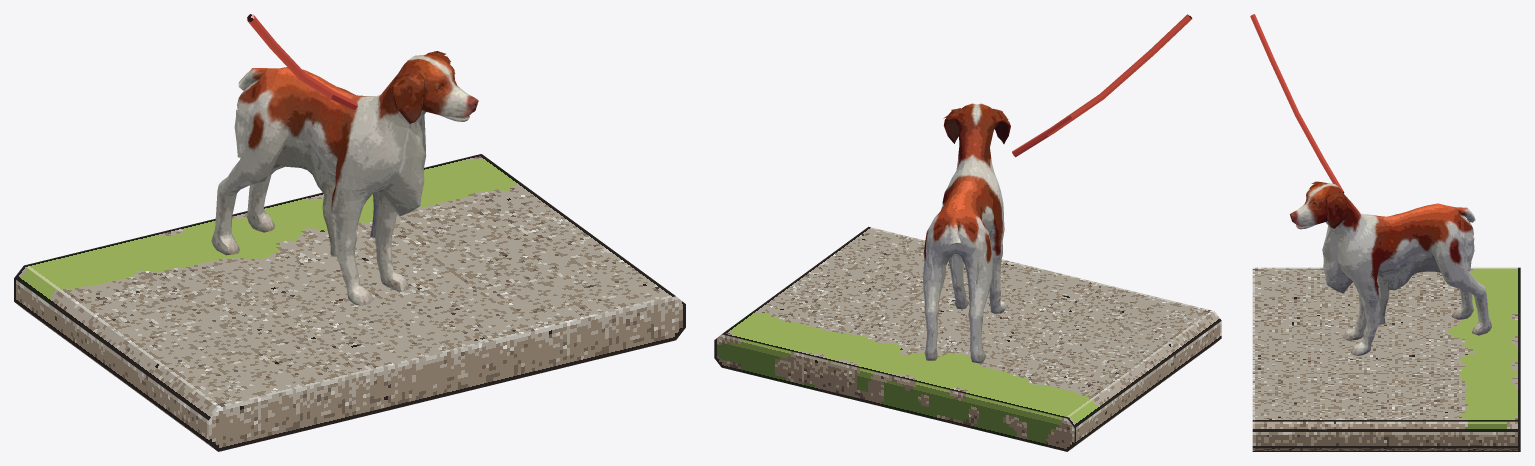
Rendered from sitshiba.glb.
3 views of the same model, side by side, from view 1: azimuth 30°, elevation 25°; view 2: azimuth 150°, elevation 25°; view 3: azimuth 270°, elevation 25° (orthographic). The views are drawn at different scales.
Visible parts, largest first — view 1: base, model_dog, leash; view 2: base, model_dog, leash; view 3: base, model_dog, leash.
Part boxes in pixels (x1=…): base: x1=14, y1=154, x2=685, y2=451; model_dog: x1=211, y1=51, x2=478, y2=305; leash: x1=247, y1=14, x2=357, y2=109; base: x1=714, y1=226, x2=1221, y2=451; model_dog: x1=923, y1=103, x2=1010, y2=363; leash: x1=1012, y1=14, x2=1192, y2=157; base: x1=1252, y1=267, x2=1520, y2=451; model_dog: x1=1290, y1=181, x2=1491, y2=355; leash: x1=1250, y1=14, x2=1344, y2=192.
Size of the model in its own units: 34 by 29.18 by 24.21.
2 materials, 2 textured.
